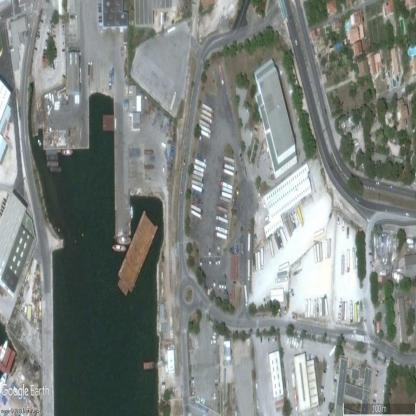ship: (117, 210, 158, 297), (116, 236, 131, 244), (111, 245, 127, 252), (62, 150, 73, 156), (130, 204, 134, 219), (37, 138, 42, 147)
